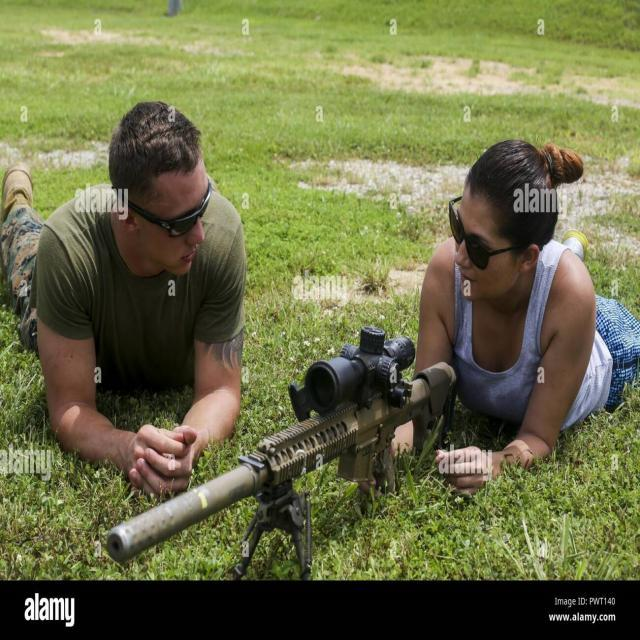rifle: (101, 320, 460, 573)
